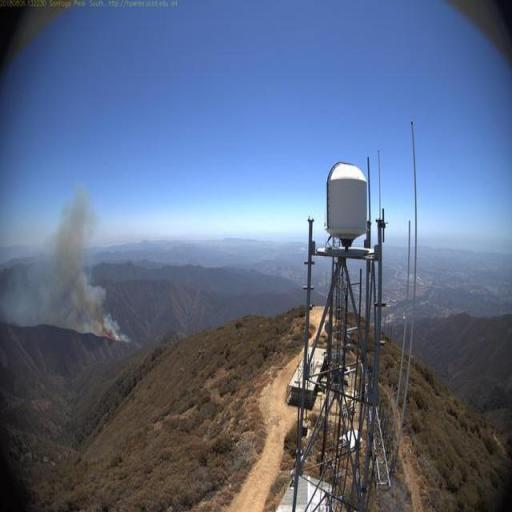smoke: (0, 188, 127, 342)
